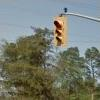Traffic light: (49, 7, 82, 58)
